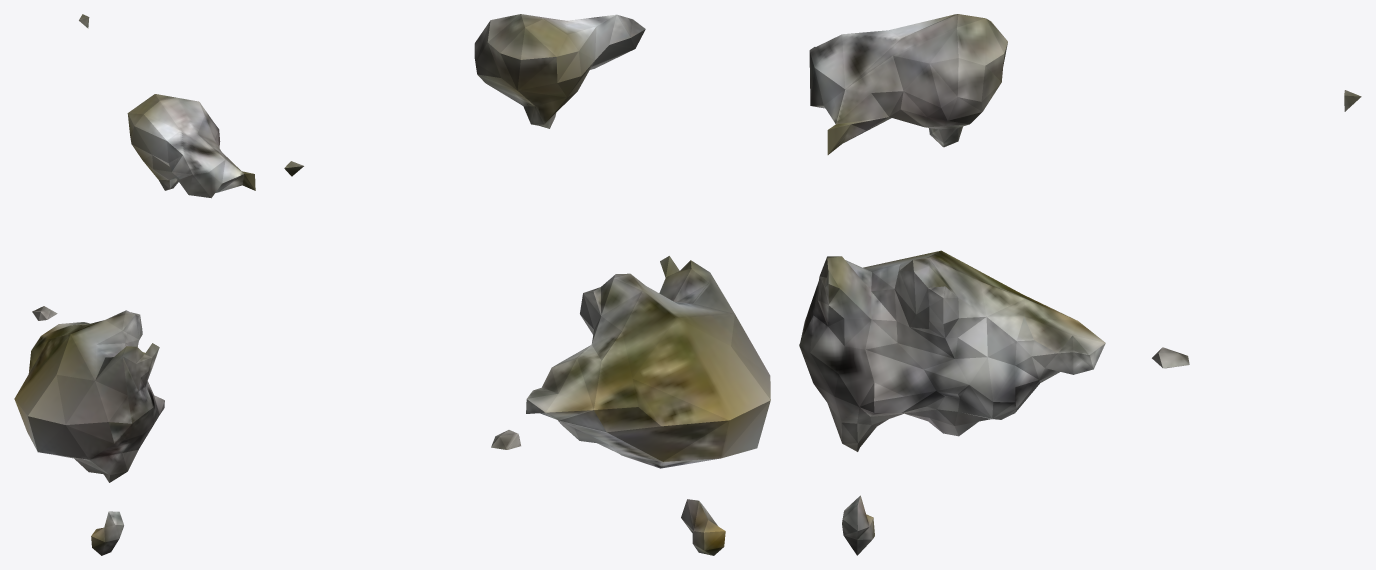
3 views of the same model, side by side, from view 1: azimuth 30°, elevation 25°; view 2: azimuth 150°, elevation 25°; view 3: azimuth 270°, elevation 25° (orthographic). The views are drawn at different scales.
Size of the model in its own units: 0.5433 by 0.9997 by 0.8457.
1 material, 1 textured.
